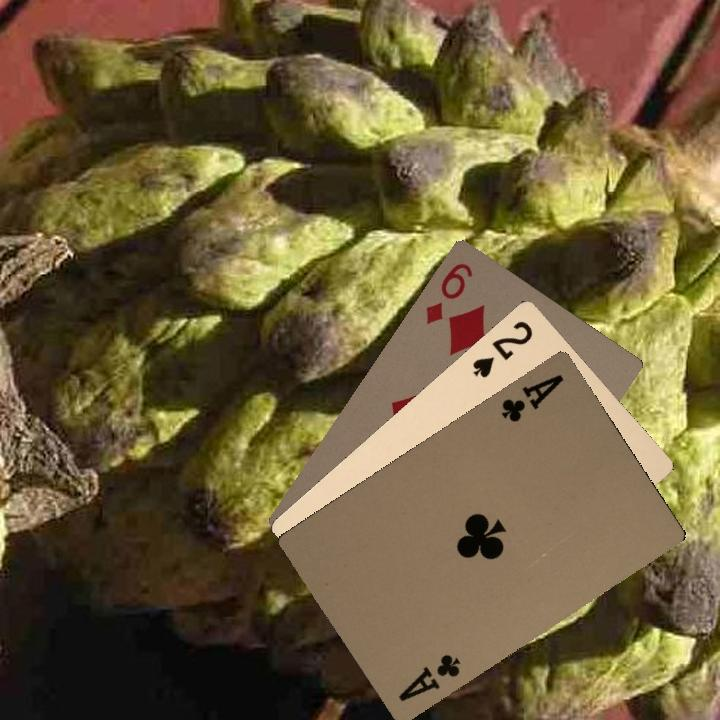2s: (468, 316, 536, 381)
6d: (421, 258, 476, 327)
Ac: (497, 370, 566, 426), (394, 650, 463, 705)
